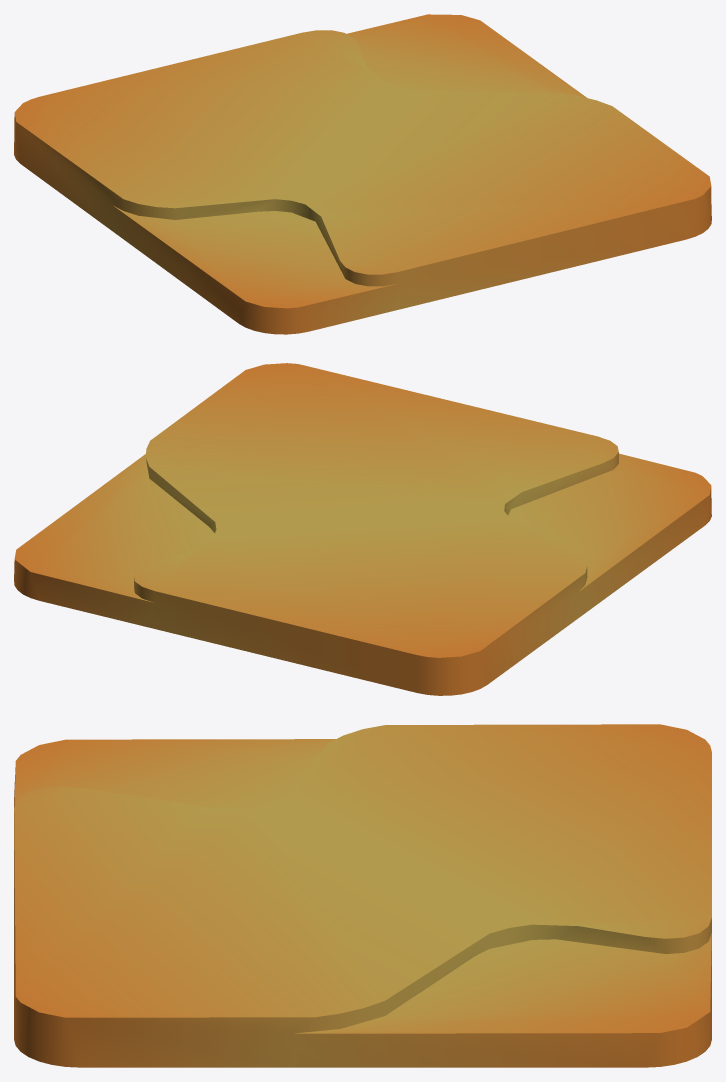
3 renders of one model, top to bottom at view 1: azimuth 30°, elevation 25°; view 2: azimuth 150°, elevation 25°; view 3: azimuth 270°, elevation 25°, orthographic. The views are drawn at different scales.
Parts seen in each view (by area): view 1: LOD 1_332424658592034533_2d0e7e9e3a92c6c43b8ba9db1d431990; view 2: LOD 1_332424658592034533_2d0e7e9e3a92c6c43b8ba9db1d431990; view 3: LOD 1_332424658592034533_2d0e7e9e3a92c6c43b8ba9db1d431990.
Part boxes in pixels (x1,y1,x2,y2): LOD 1_332424658592034533_2d0e7e9e3a92c6c43b8ba9db1d431990: (14, 14, 711, 334); LOD 1_332424658592034533_2d0e7e9e3a92c6c43b8ba9db1d431990: (14, 363, 711, 695); LOD 1_332424658592034533_2d0e7e9e3a92c6c43b8ba9db1d431990: (14, 724, 711, 1067).
Size of the model in its own units: 5.67 by 0.44 by 5.67.
